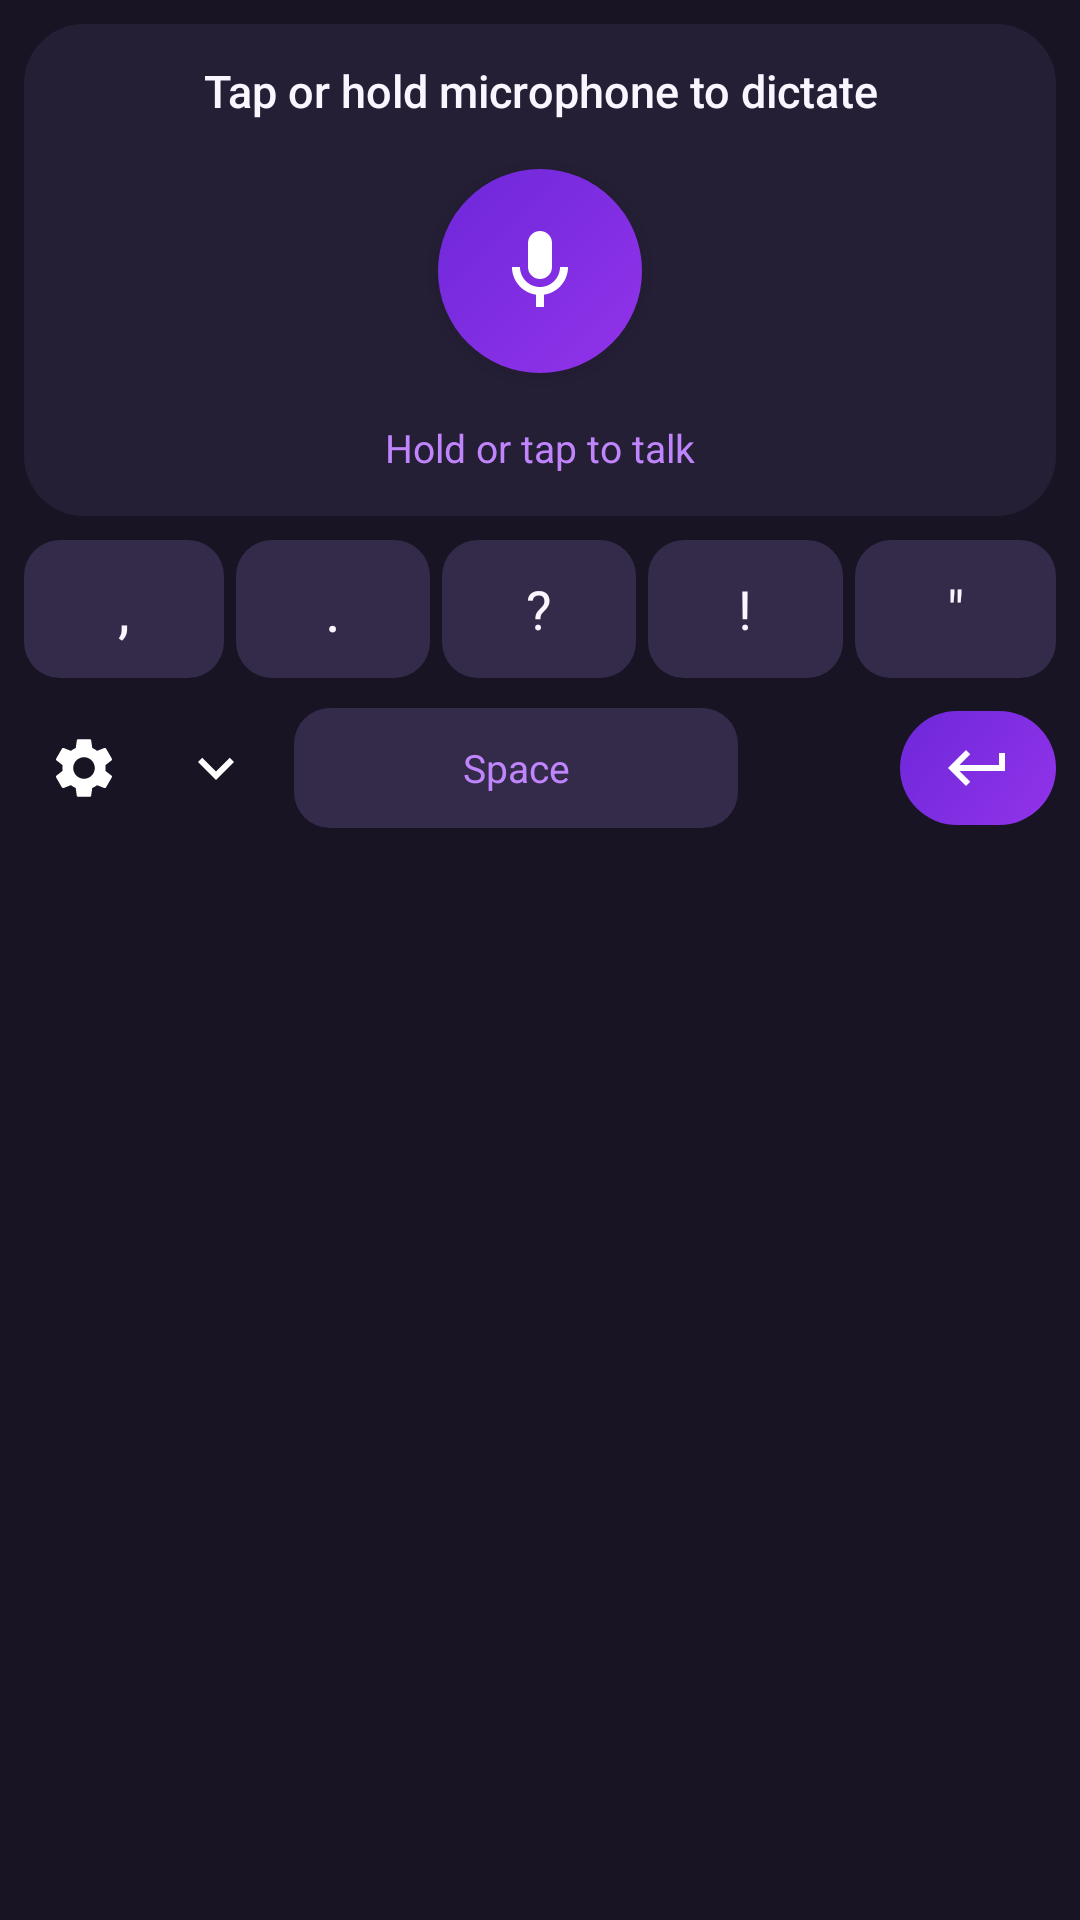

Screen size 1080px×1920px. Icon name, then its center in pixels as (x,y):
Enter: (978,768)
Hide Keyboard: (216,769)
Settings: (84,768)
